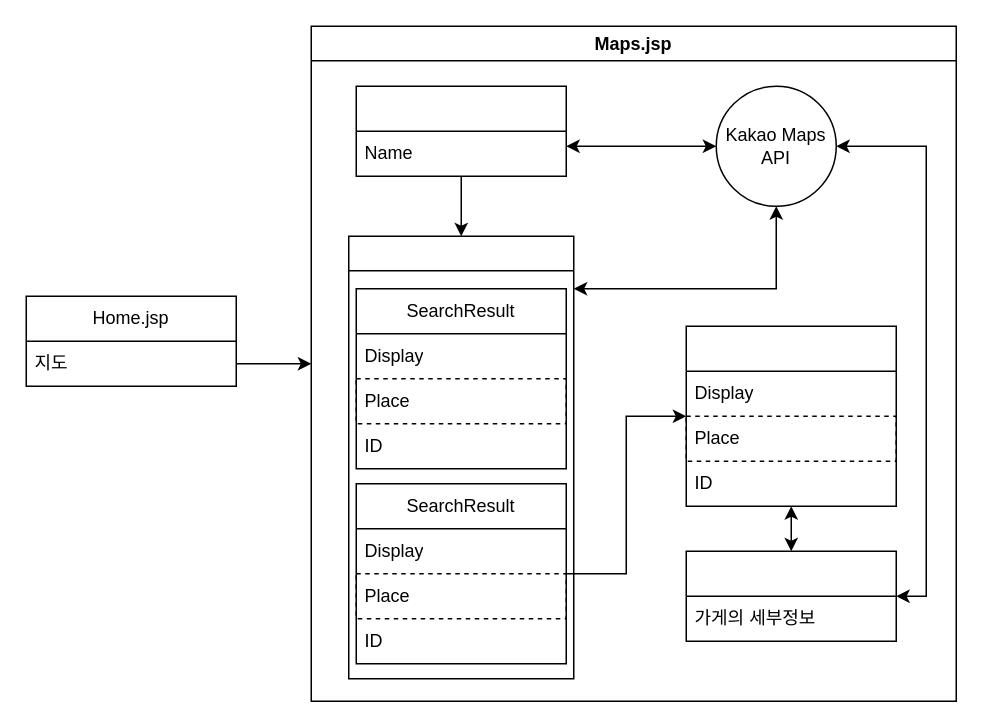
Some shapes in this 983 by 728 pixel diagram are drawn without their labels. Here are the shapes that lost their labels. From the top down, the box of each, then its label:
(355, 85, 566, 176): Search
(685, 325, 896, 506): StoreDetails
(347, 235, 574, 679): SearchResults
(685, 550, 896, 641): Store.jsp
